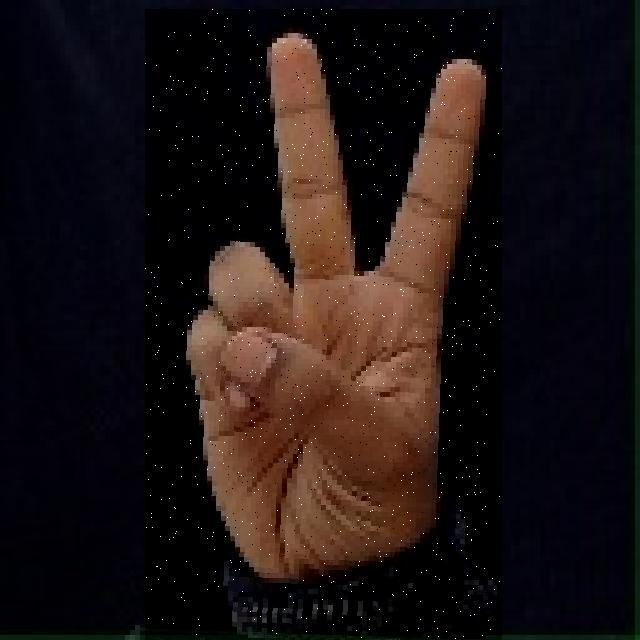No: (145, 9, 502, 640)
